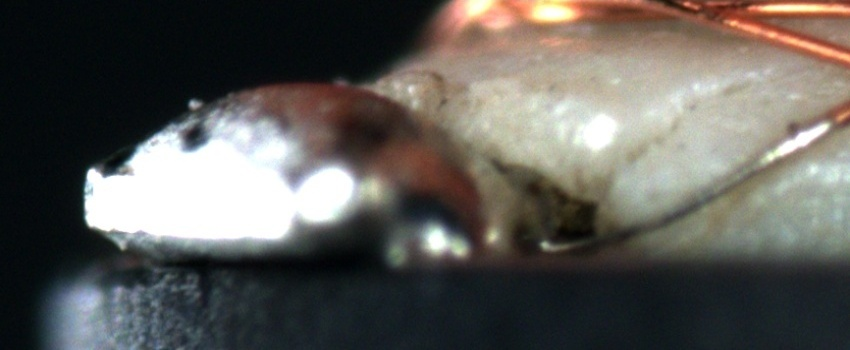DL: (789, 147, 849, 188)
TS: (540, 117, 836, 255)
TTCW: (552, 101, 849, 258)
